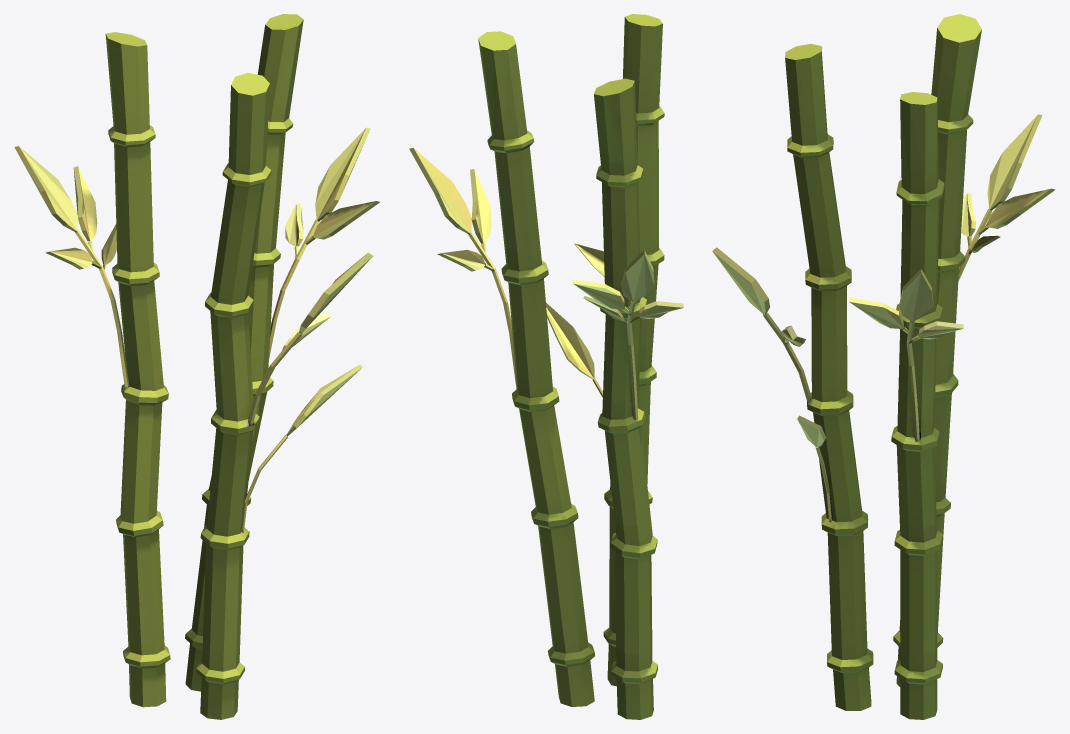
Rendered from bamboo-small.glb.
3 views of the same model, side by side, from view 1: azimuth 30°, elevation 25°; view 2: azimuth 150°, elevation 25°; view 3: azimuth 270°, elevation 25° (orthographic). The views are drawn at different scales.
Parts seen in each view (by area): view 1: bamboo; view 2: bamboo; view 3: bamboo.
Boxes of the visible parts, bbox=[...] form: bamboo: bbox=[14, 14, 379, 719]; bamboo: bbox=[409, 14, 683, 719]; bamboo: bbox=[712, 14, 1055, 719].
Size of the model in its own units: 0.8979 by 1.85 by 0.873.
1 material, 1 textured.
